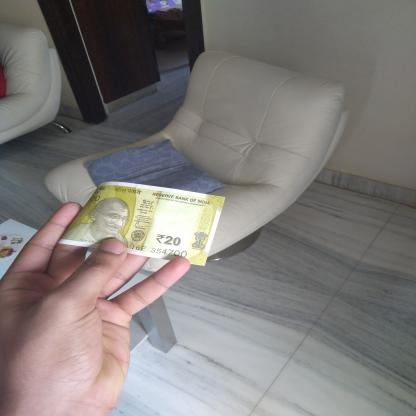New20Front: (66, 181, 220, 266)
